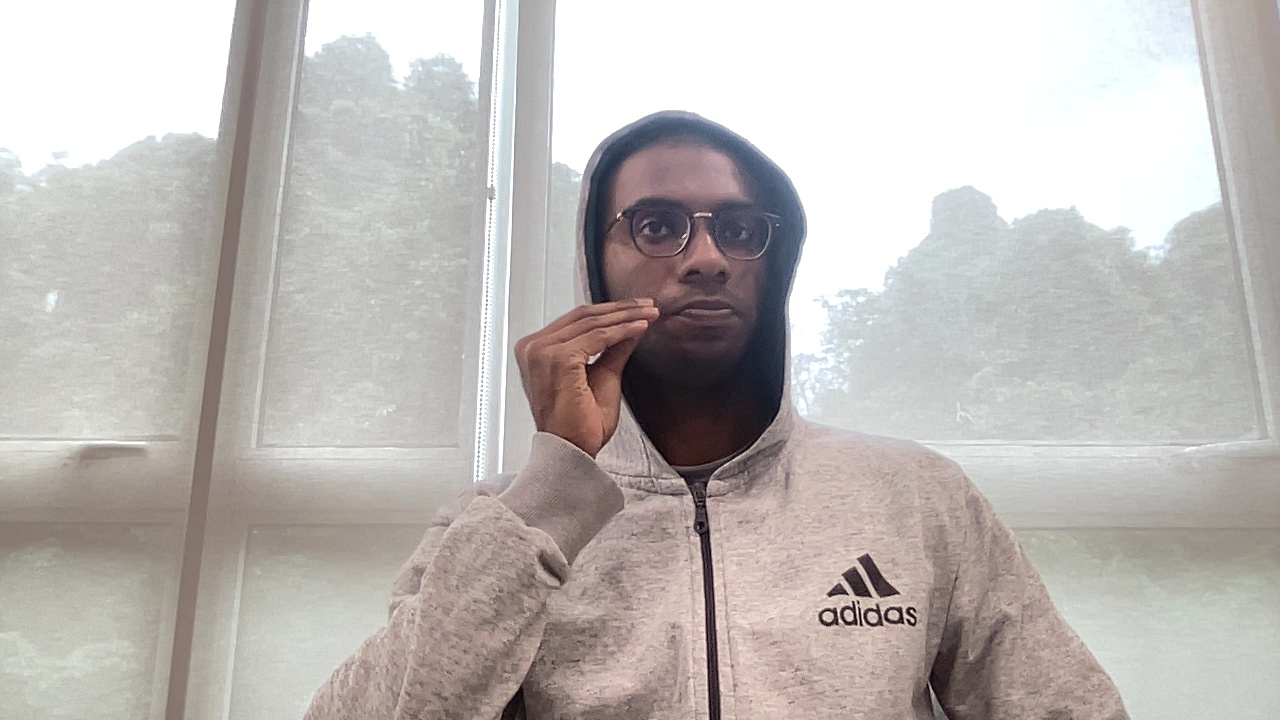eat: (510, 294, 666, 440)
